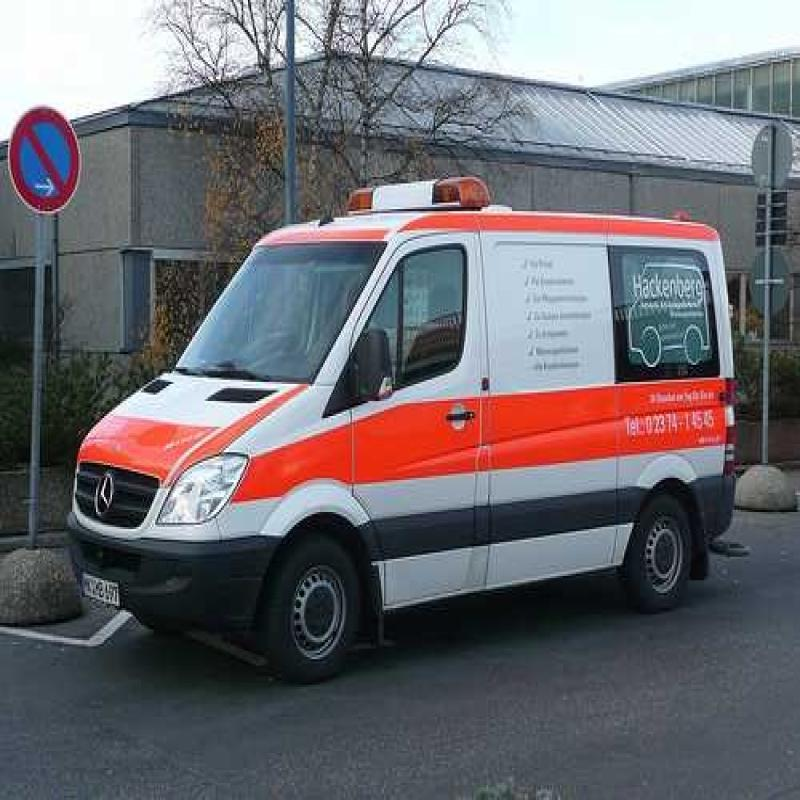AmbulanceSiren: (335, 169, 507, 229)
